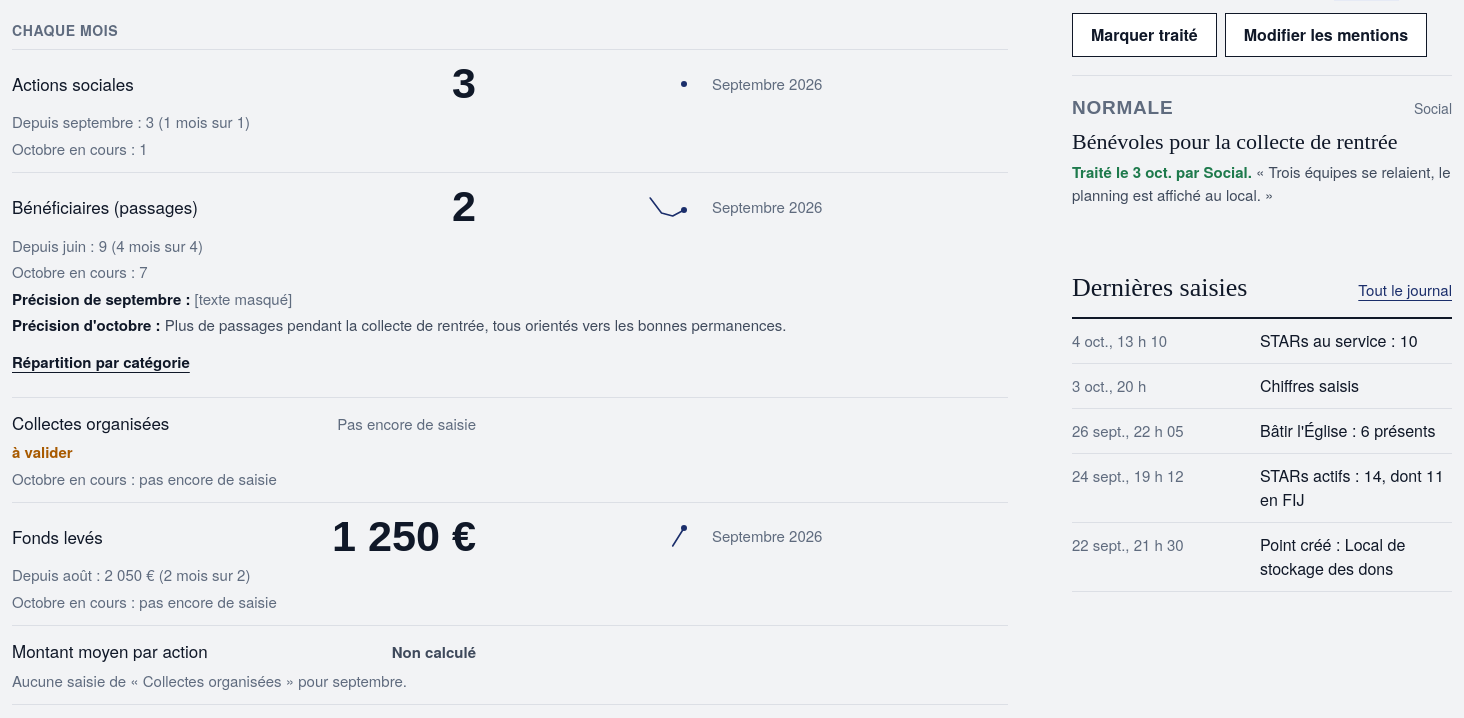
it: VueFiche, berger (04) › répartition repliée, exacte (P52) : « Non réparti » et « Pas de répartition », ni « masqué » ni « moins de 3 »
The width and height of the screenshot is (1464, 718).
(page scrolled)
Click the heading "Répartition par catégorie" at [101, 362], box [12,351,190,373]
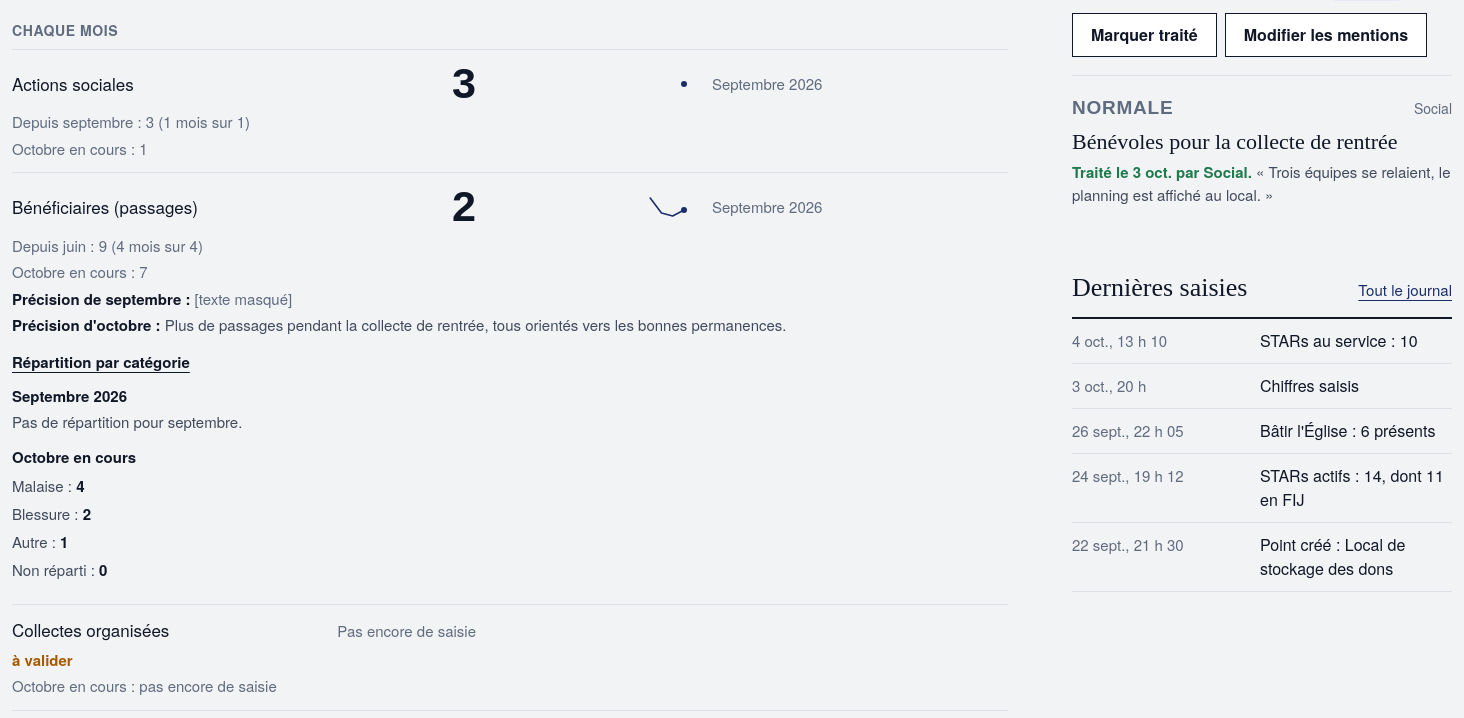
Check: the text "Pas de répartition pour septembre." is shown, box [12,411,242,432]
Check: the text "Malaise :" reads "Malaise : 4", box [12,475,84,497]
Check: the text "Blessure :" reads "Blessure : 2", box [12,503,91,525]
